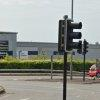traffic lights: (64, 18, 82, 53), (83, 38, 88, 56)
